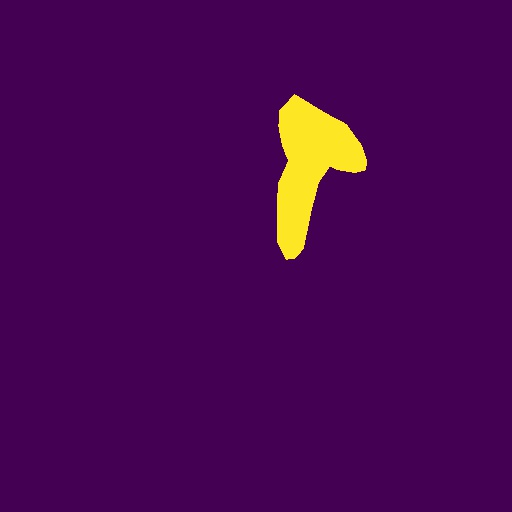Gliomia_tumour: (277, 94, 367, 260)
